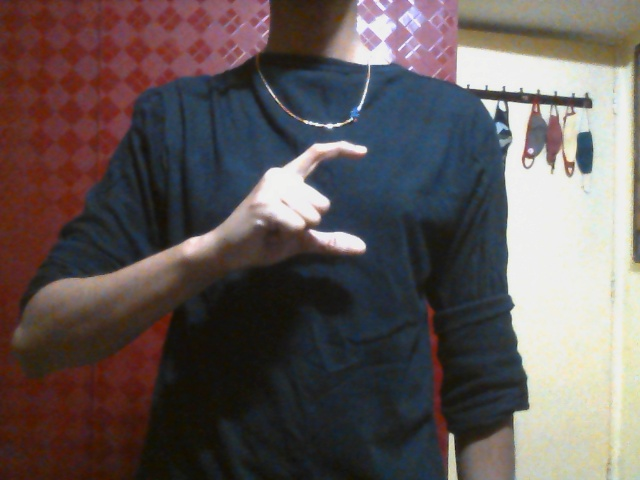C: (220, 139, 379, 275)
